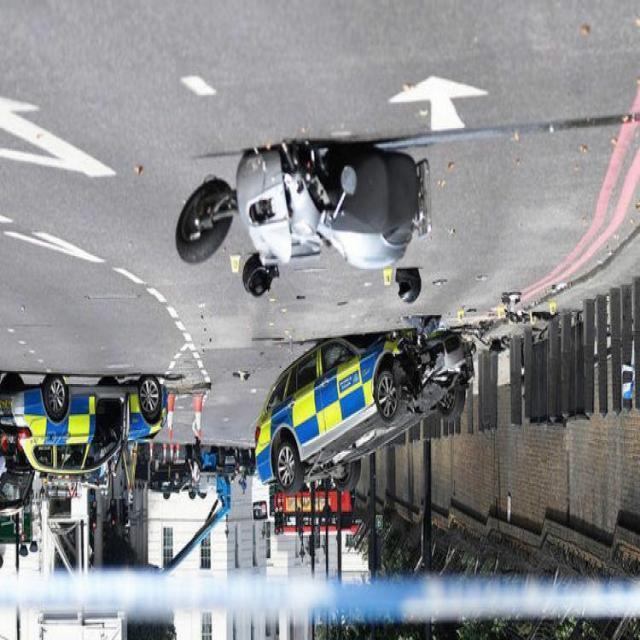severe: (247, 315, 477, 508)
